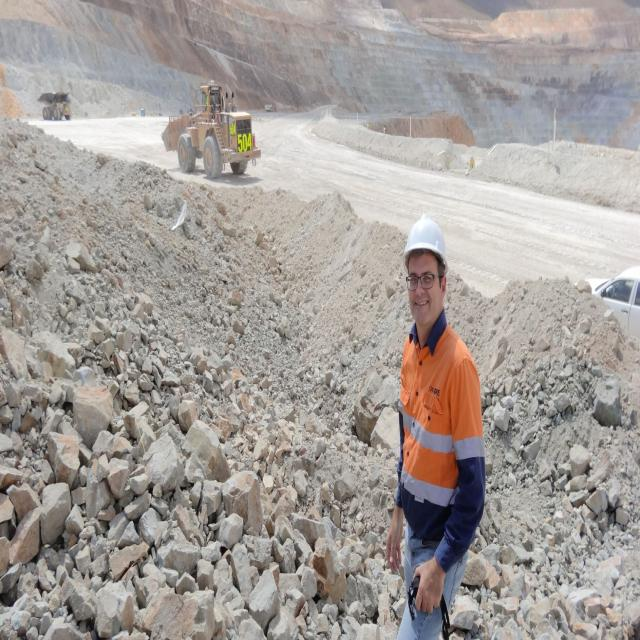buldozerpayloadergrader: (156, 81, 270, 179)
dump_truck: (35, 89, 73, 125)
